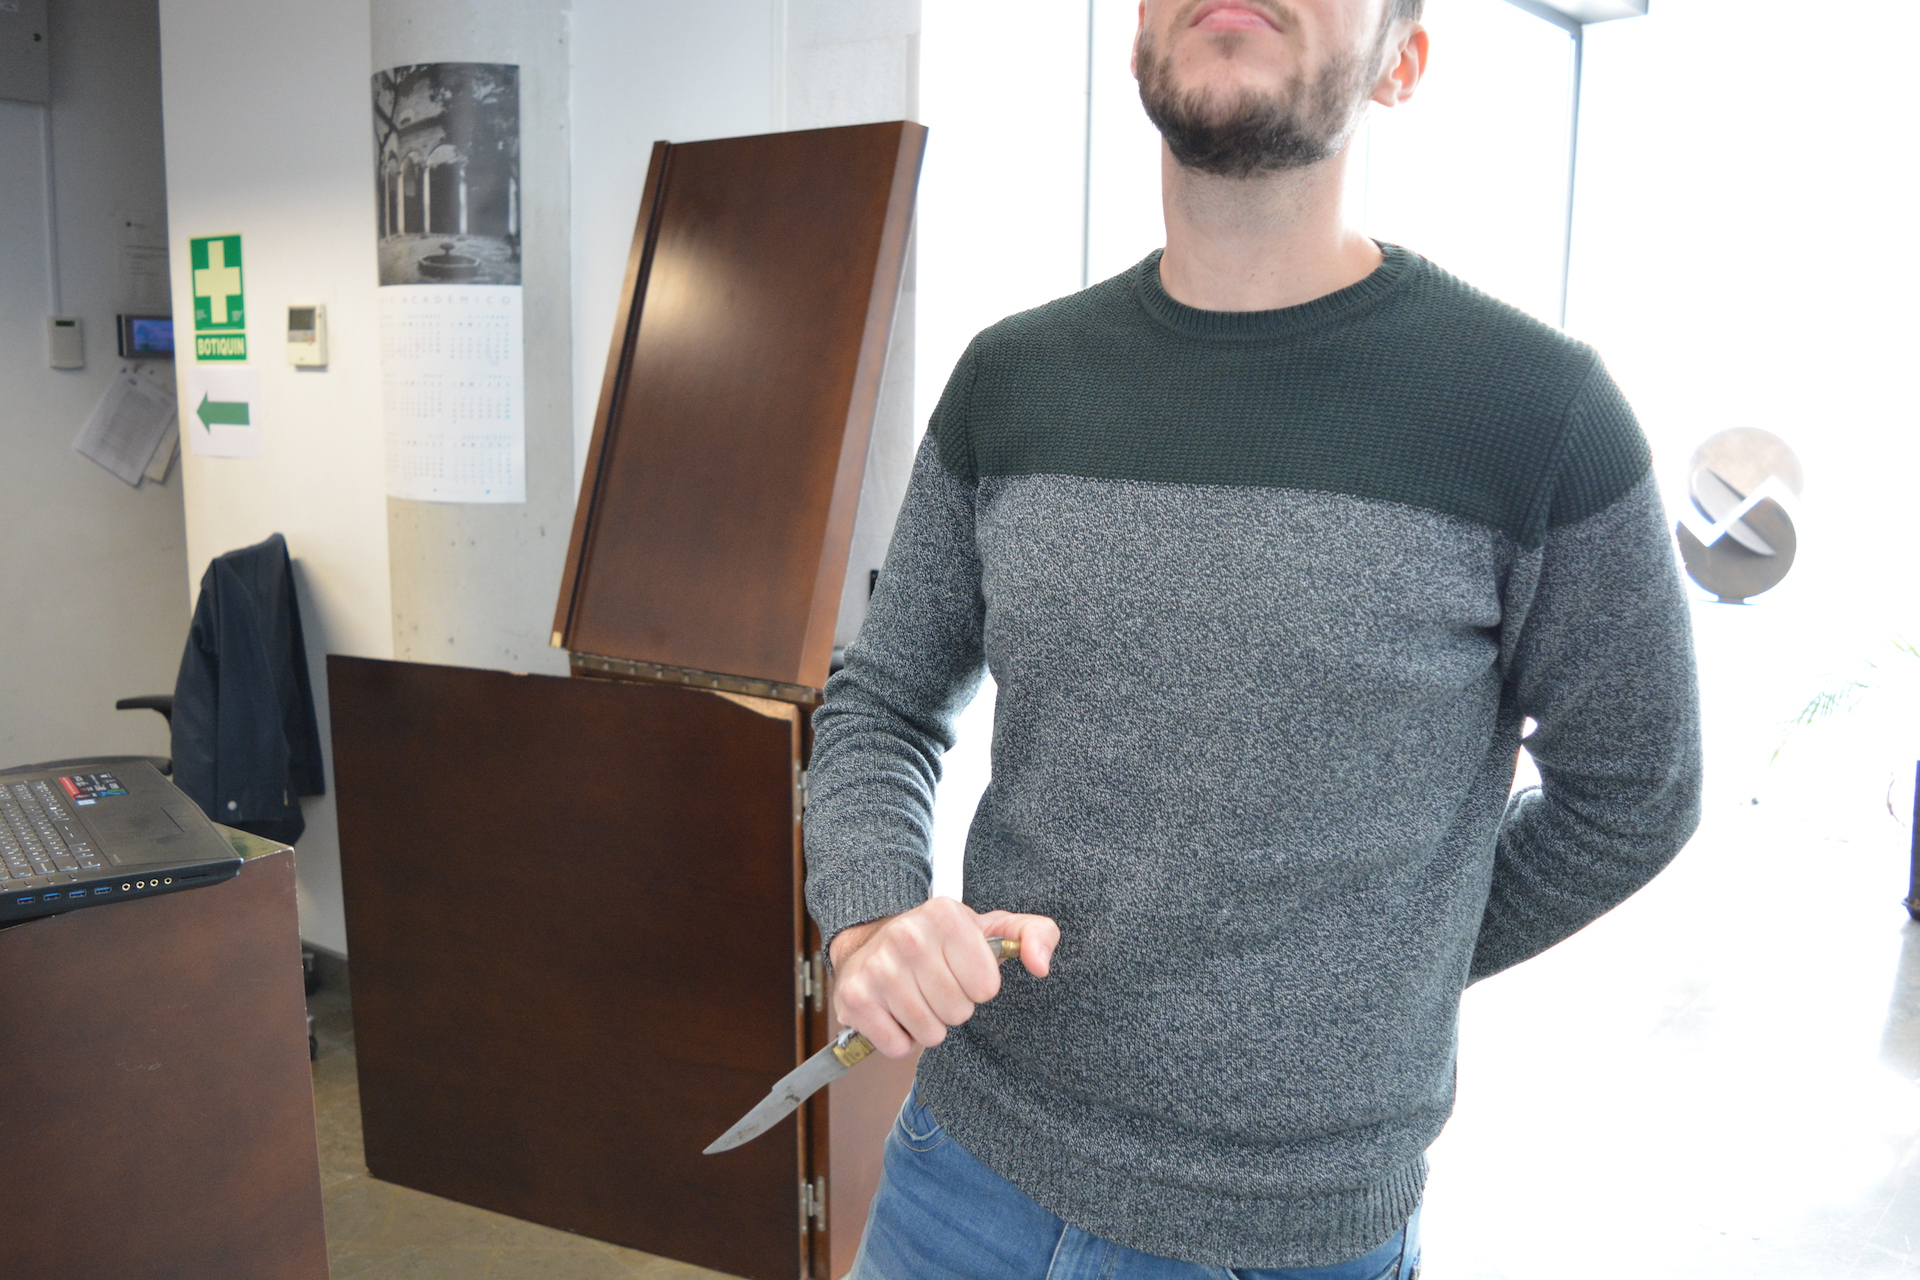knife: (690, 926, 1029, 1171)
